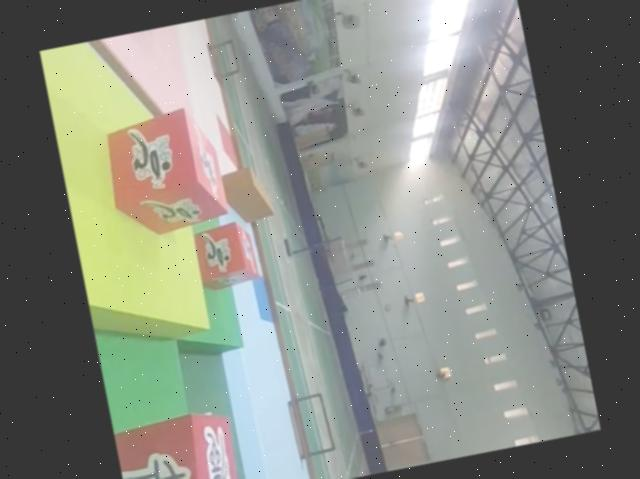R1: (97, 101, 230, 240), (190, 214, 263, 293)
R2 Fake: (112, 403, 247, 479)
